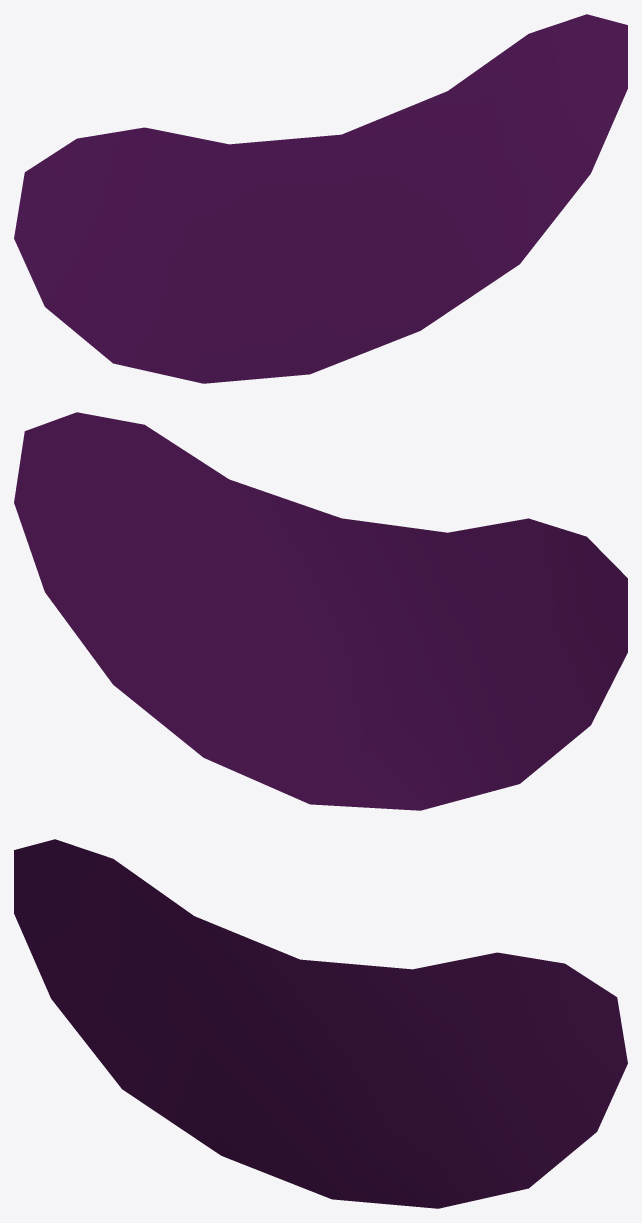
The model's file is Mouth_Purple_6.fbx.
3 renders of one model, top to bottom at view 1: azimuth 30°, elevation 25°; view 2: azimuth 150°, elevation 25°; view 3: azimuth 330°, elevation 25°, orthographic.
Parts seen in each view (by area): view 1: Mouth_Purple_6; view 2: Mouth_Purple_6; view 3: Mouth_Purple_6.
Part boxes in pixels (left/top/right/bottom): Mouth_Purple_6: left=14, top=14, right=627, bottom=383; Mouth_Purple_6: left=14, top=412, right=627, bottom=810; Mouth_Purple_6: left=14, top=839, right=627, bottom=1208.
Bounding box in the file's own units: 7.46 × 3.64 × 0.6651.
